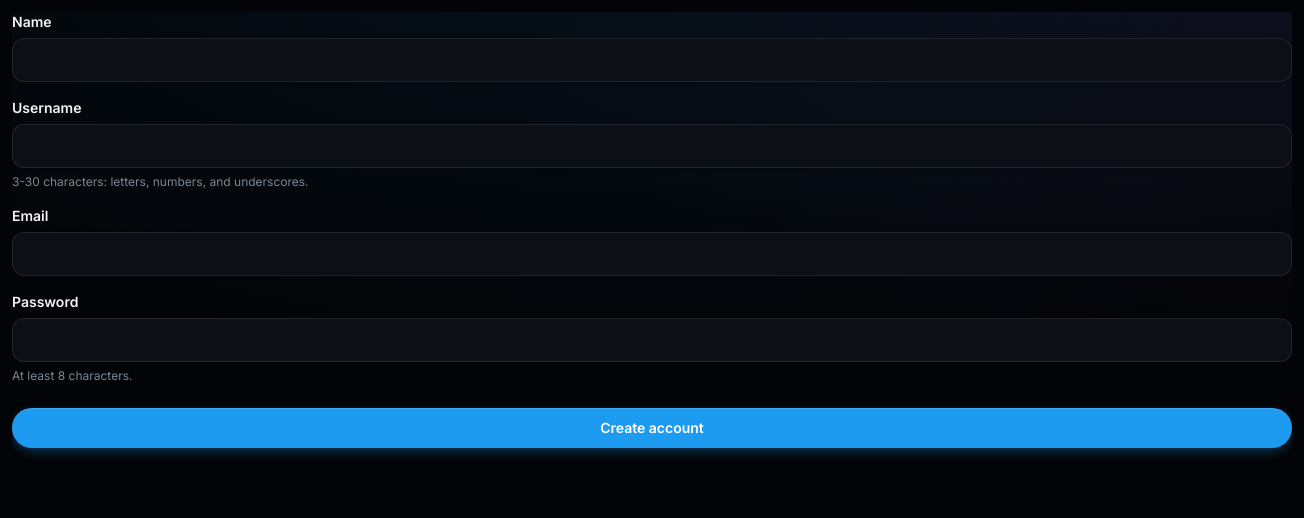
RegisterForm › shows inline validation errors and does not submit invalid input
The image size is (1304, 518).
Click the button "Create account" at coordinates (652, 428), box [12, 408, 1292, 448]
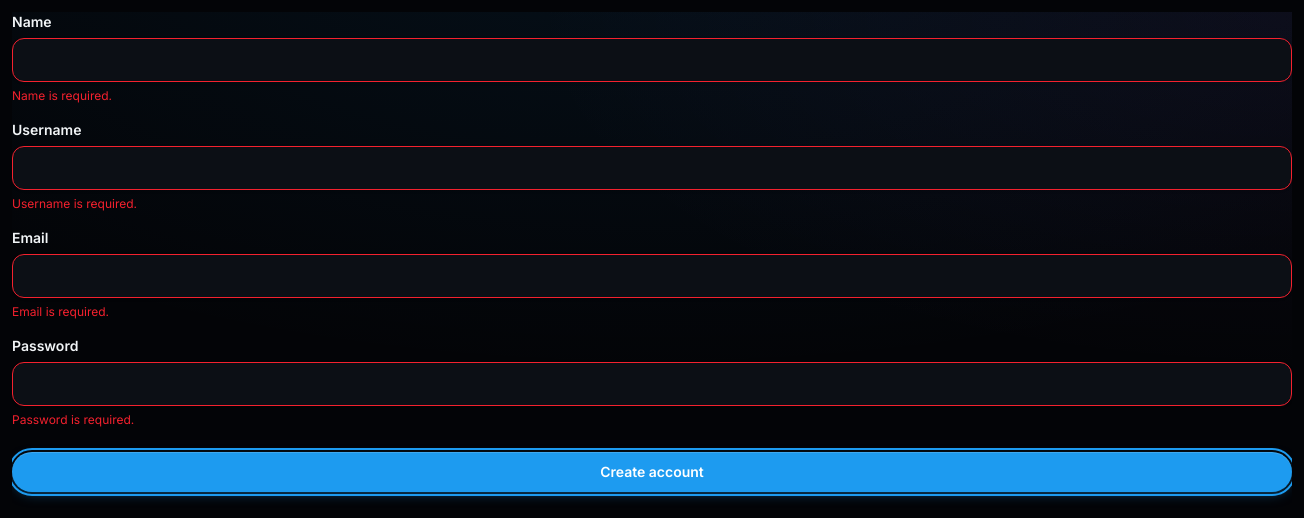
Check: the text "Name is required." is shown, box [12, 88, 112, 103]
Check: the text "Username is required." is shown, box [12, 196, 137, 211]
Check: the text "Email is required." is shown, box [12, 304, 109, 319]
